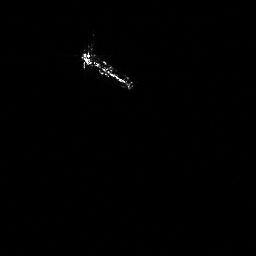ship: (76, 43, 139, 94)
